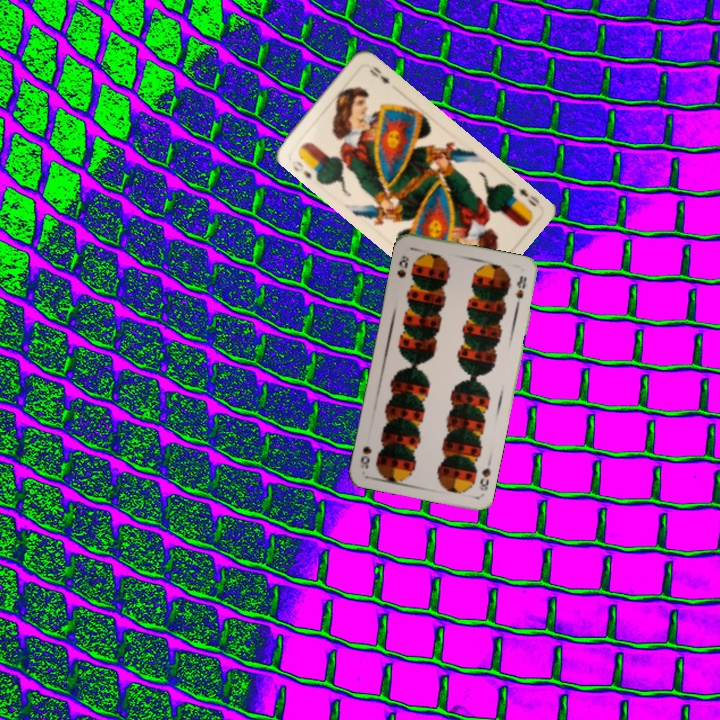EO: (514, 184, 542, 209), (288, 156, 314, 181)
S8: (475, 463, 493, 494), (393, 251, 411, 280)
